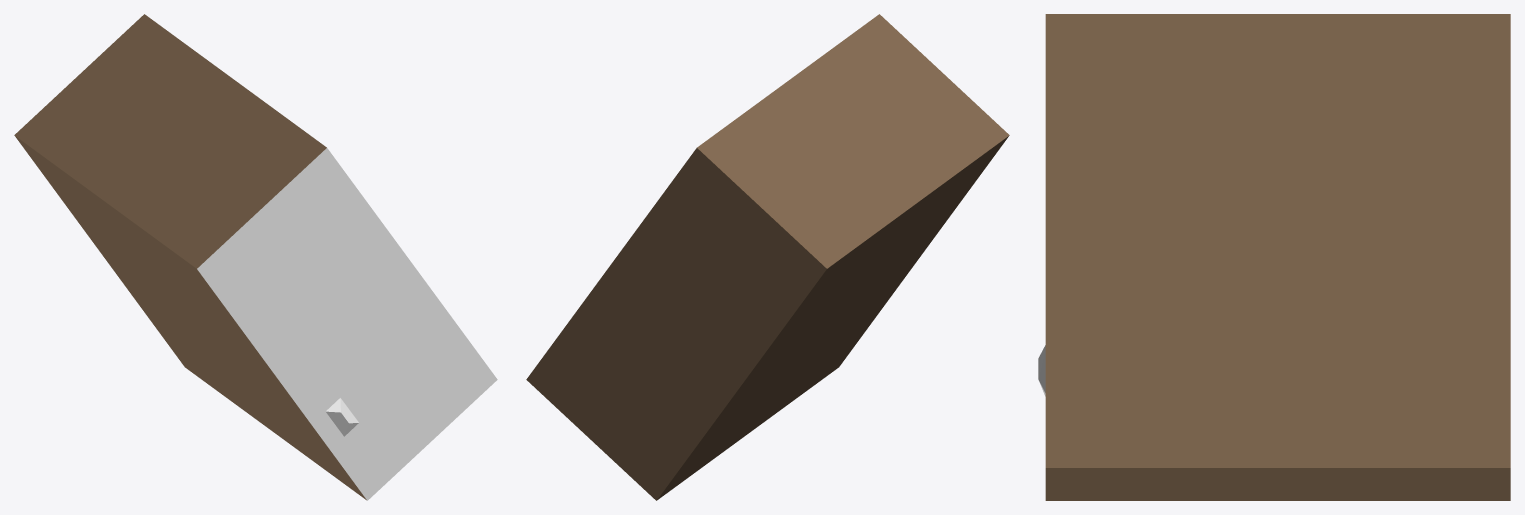
3 renders of one model, left to right at view 1: azimuth 30°, elevation 25°; view 2: azimuth 150°, elevation 25°; view 3: azimuth 270°, elevation 25°, orthographic. The views are drawn at different scales.
Visible parts, largest first — view 1: City_1884673; view 2: City_1884673; view 3: City_1884673.
Boxes of the visible parts, x1=… form: City_1884673: x1=14, y1=14, x2=497, y2=500; City_1884673: x1=526, y1=14, x2=1009, y2=500; City_1884673: x1=1038, y1=14, x2=1510, y2=500.
Bounding box in the file's own units: 1413 × 1629 × 1509.
